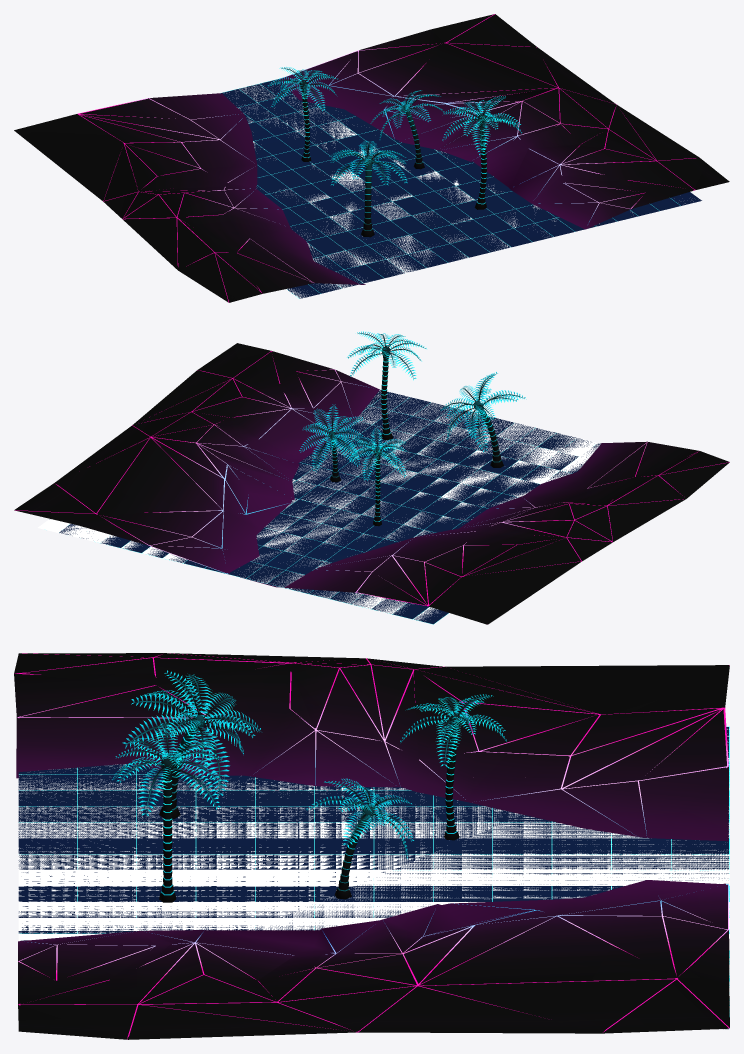
Rendered from Terrain_Palm_start.fbx.
The picture shows the model from 3 angles, top to bottom: view 1: azimuth 30°, elevation 25°; view 2: azimuth 150°, elevation 25°; view 3: azimuth 270°, elevation 25°; orthographic projection. The views are drawn at different scales.
Parts seen in each view (by area): view 1: Terrain_Palm_start, Terrain_Palm_start_colider; view 2: Terrain_Palm_start, Terrain_Palm_start_colider; view 3: Terrain_Palm_start, Terrain_Palm_start_colider.
Part boxes in pixels (left/top/right/bottom): Terrain_Palm_start: left=14, top=14, right=723, bottom=302; Terrain_Palm_start_colider: left=14, top=30, right=729, bottom=302; Terrain_Palm_start: left=14, top=331, right=729, bottom=624; Terrain_Palm_start_colider: left=38, top=343, right=719, bottom=624; Terrain_Palm_start: left=14, top=653, right=729, bottom=1039; Terrain_Palm_start_colider: left=15, top=653, right=729, bottom=1039.
Size of the model in its own units: 5861 by 1208 by 4631.
2 materials, 2 textured.
